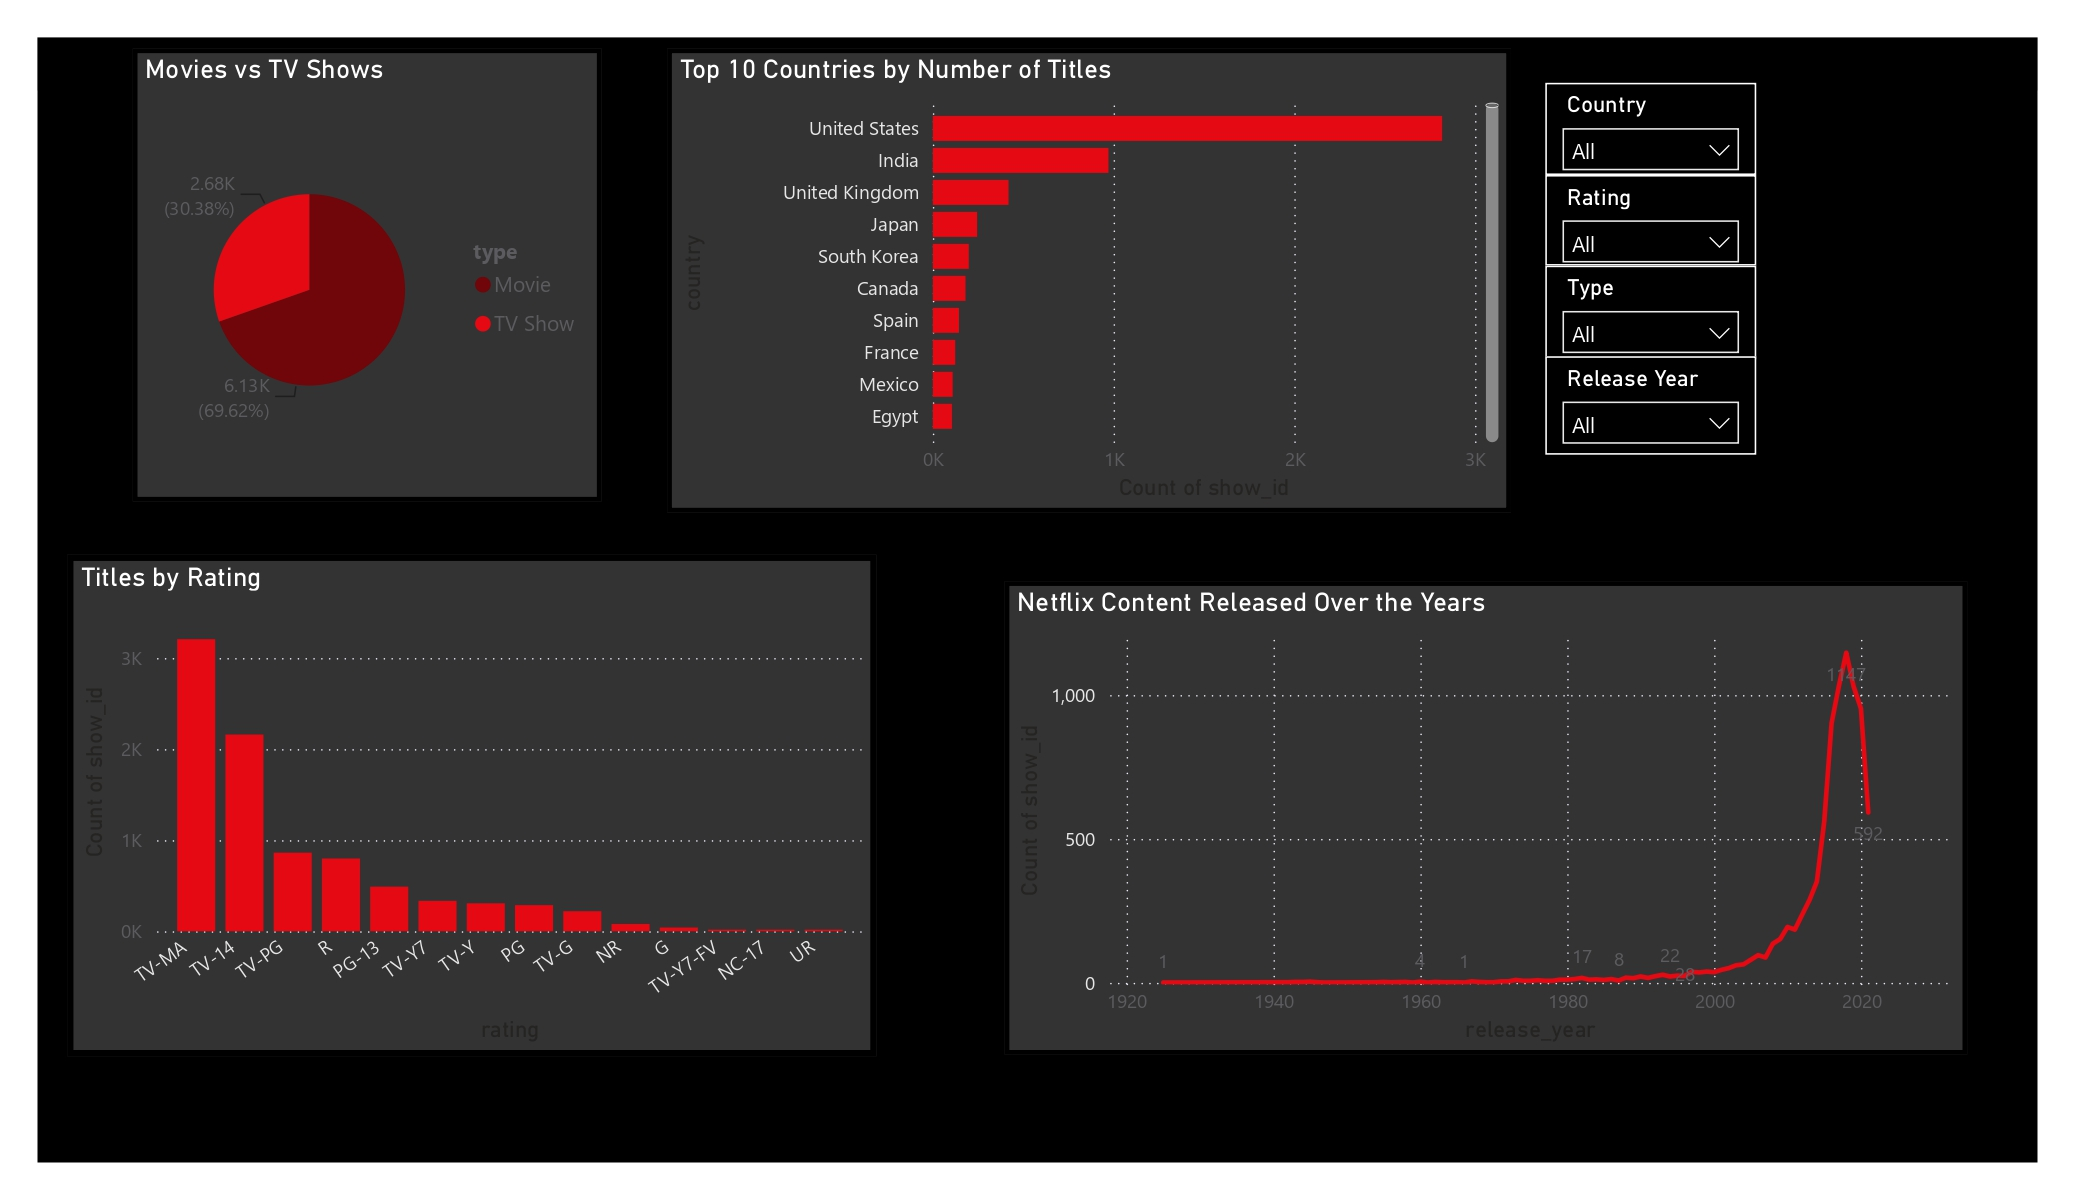

What the dashboard file says about the page in this screenshot:
{"tool":"powerbi","page":{"name":"Content Analysis","canvas":[1280,720],"ordinal":1},"visuals":[{"type":"pieChart","title":"Movies vs TV Shows","fields":{"Category":["Netflix_database.type"],"Y":["CountNonNull(Netflix_database.show_id)"]},"box":[61.3,6.8,299.6,289.8],"z":0},{"type":"clusteredBarChart","title":"Top 10 Countries by Number of Titles","fields":{"Category":["Netflix_database.country"],"Y":["CountNonNull(Netflix_database.show_id)"]},"box":[402.7,6.8,540.8,297.6],"z":1000},{"type":"clusteredColumnChart","title":"Titles by Rating","fields":{"Category":["Netflix_database.rating"],"Y":["CountNonNull(Netflix_database.show_id)"]},"box":[19.5,330.7,517.4,321],"z":2000},{"type":"lineChart","title":"Netflix Content Released Over the Years","fields":{"Category":["Netflix_database.release_year"],"Y":["CountNonNull(Netflix_database.show_id)"]},"box":[619.5,348.3,615.4,302.9],"z":3000},{"type":"slicer","fields":{"Values":["Netflix_database.country"]},"box":[964.9,29.2,135.2,58.4],"z":4000},{"type":"slicer","fields":{"Values":["Netflix_database.rating"]},"box":[964.9,87.5,135.2,58.4],"z":5000},{"type":"slicer","fields":{"Values":["Netflix_database.type"]},"box":[964.9,145.9,135.2,60.3],"z":6000},{"type":"slicer","fields":{"Values":["Netflix_database.release_year"]},"box":[964.9,204.3,135.2,63.2],"z":7000}]}

Visuals, with their boxes on the page's 1280x720 design canvas (x1, y1, x2, y2). These are canvas units, not pixel positions in the 2075x1200 screenshot, which may show the page scaled, cropped or inside an application window:
"Movies vs TV Shows" pieChart: 61 7 361 297
"Top 10 Countries by Number of Titles" clusteredBarChart: 403 7 944 304
"Titles by Rating" clusteredColumnChart: 20 331 537 652
"Netflix Content Released Over the Years" lineChart: 620 348 1235 651
slicer - Netflix_database.country: 965 29 1100 88
slicer - Netflix_database.rating: 965 88 1100 146
slicer - Netflix_database.type: 965 146 1100 206
slicer - Netflix_database.release_year: 965 204 1100 268
